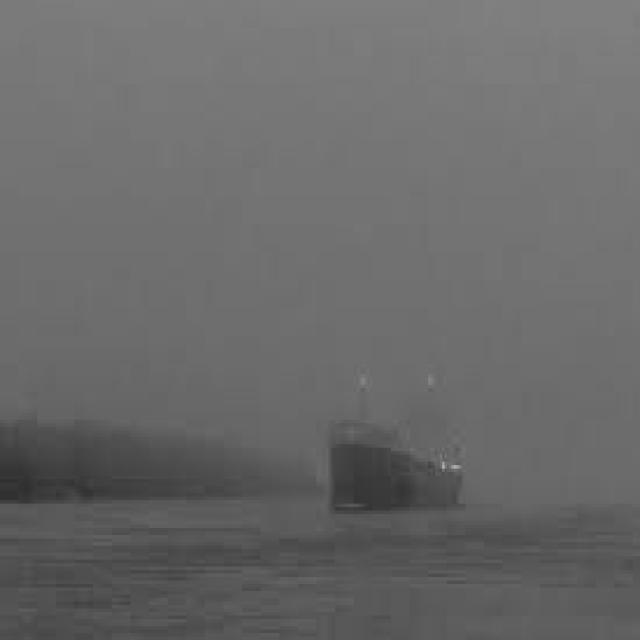cargoship: (326, 383, 470, 512)
